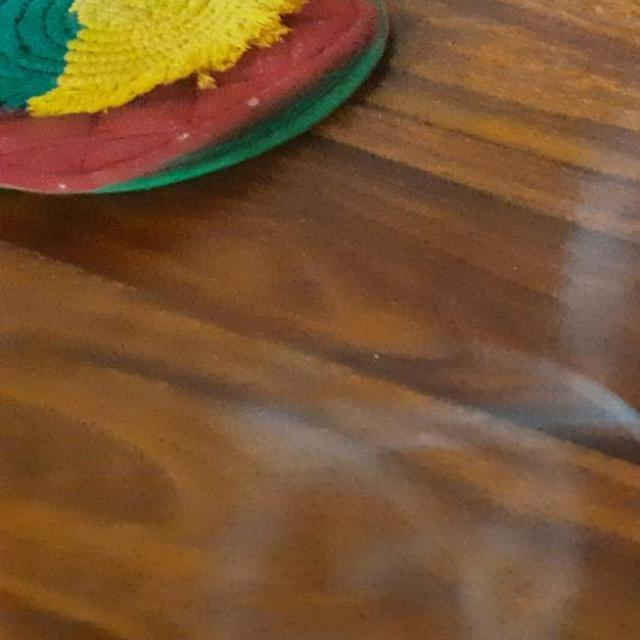fire: (236, 332, 639, 640)
